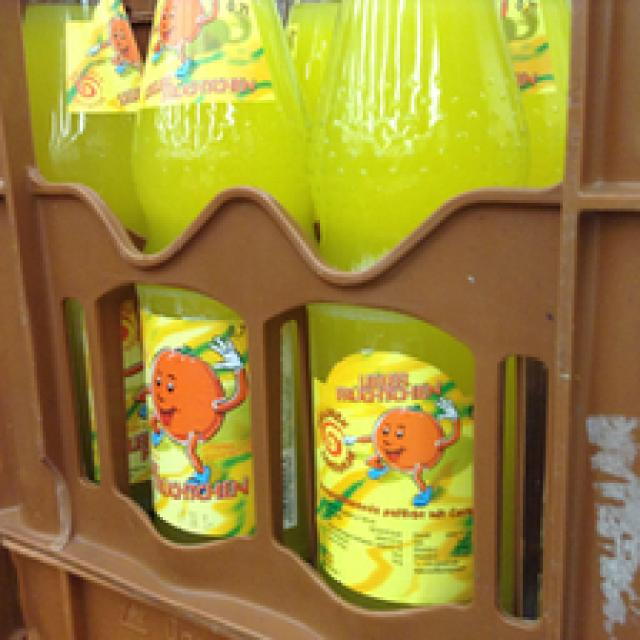groceries: (306, 0, 526, 620), (123, 3, 326, 543), (19, 0, 134, 491)
